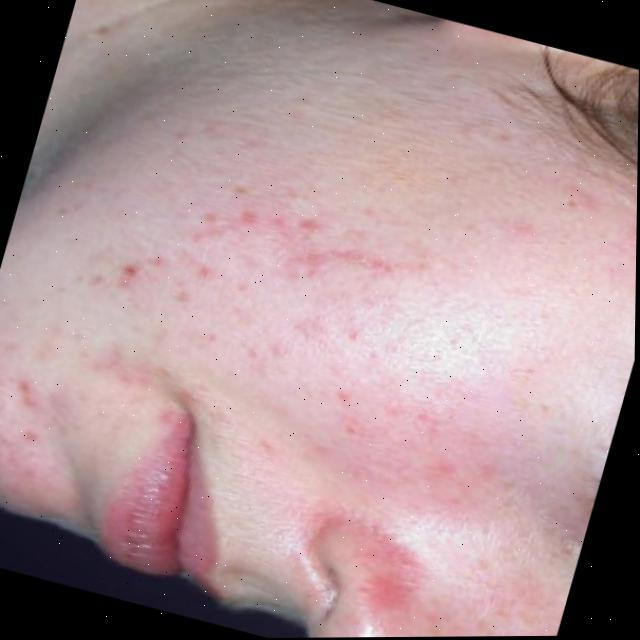Acne: (54, 119, 516, 507)
